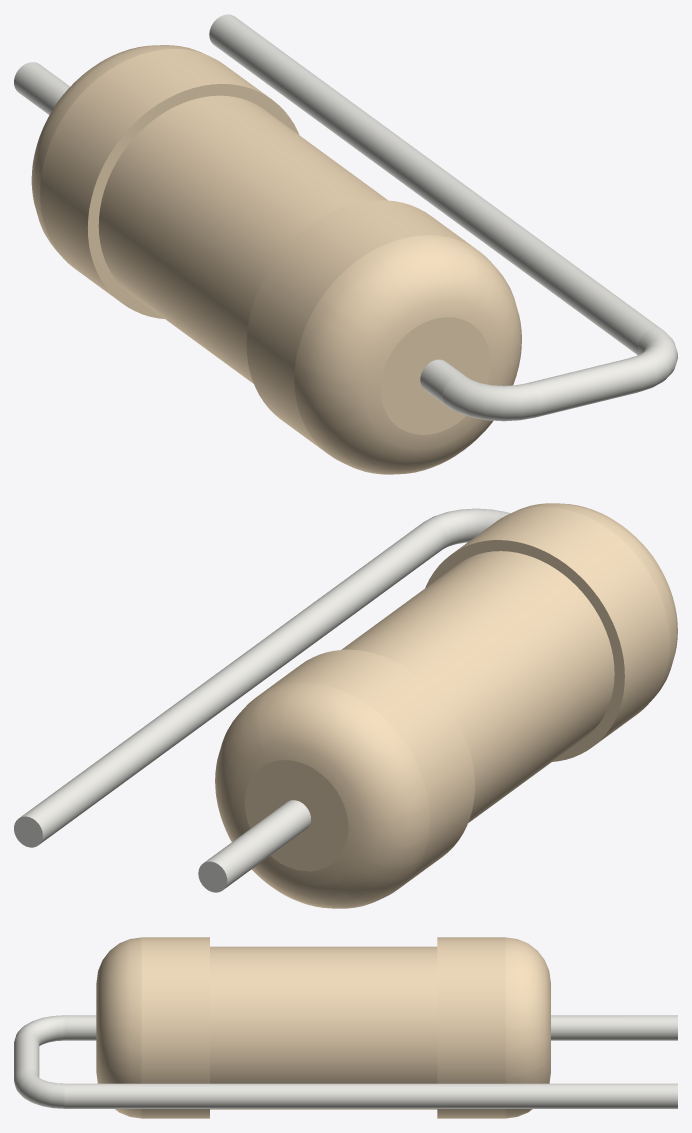
The model's file is R_Axial_DIN0614_L14.3mm_D5.7mm_P5.08mm_Vertical.glb.
The picture shows the model from 3 angles, top to bottom: view 1: azimuth 30°, elevation 25°; view 2: azimuth 150°, elevation 25°; view 3: azimuth 270°, elevation 25°; orthographic projection. The views are drawn at different scales.
Parts seen in each view (by area): view 1: Shape_IndexedFaceSet.004, Shape_IndexedFaceSet.009, Shape_IndexedFaceSet.015, Shape_IndexedFaceSet.008, Shape_IndexedFaceSet, Shape_IndexedFaceSet.010, Shape_IndexedFaceSet.002, Shape_IndexedFaceSet.013, Shape_IndexedFaceSet.012, Shape_IndexedFaceSet.001, Shape_IndexedFaceSet.014, Shape_IndexedFaceSet.005 (+1 smaller); view 2: Shape_IndexedFaceSet.004, Shape_IndexedFaceSet.001, Shape_IndexedFaceSet.015, Shape_IndexedFaceSet.008, Shape_IndexedFaceSet, Shape_IndexedFaceSet.003, Shape_IndexedFaceSet.006, Shape_IndexedFaceSet.005, Shape_IndexedFaceSet.009, Shape_IndexedFaceSet.014, Shape_IndexedFaceSet.007, Shape_IndexedFaceSet.016; view 3: Shape_IndexedFaceSet.004, Shape_IndexedFaceSet.015, Shape_IndexedFaceSet, Shape_IndexedFaceSet.008, Shape_IndexedFaceSet.001, Shape_IndexedFaceSet.009, Shape_IndexedFaceSet.005, Shape_IndexedFaceSet.014, Shape_IndexedFaceSet.013, Shape_IndexedFaceSet.012, Shape_IndexedFaceSet.011.
Boxes of the visible parts, x1,y1,x2,y2 form: Shape_IndexedFaceSet.004: [98, 95, 387, 383]; Shape_IndexedFaceSet.009: [294, 235, 521, 474]; Shape_IndexedFaceSet.015: [209, 14, 661, 354]; Shape_IndexedFaceSet.008: [246, 200, 475, 452]; Shape_IndexedFaceSet: [40, 49, 270, 300]; Shape_IndexedFaceSet.010: [381, 317, 490, 434]; Shape_IndexedFaceSet.002: [88, 84, 299, 318]; Shape_IndexedFaceSet.013: [527, 358, 642, 417]; Shape_IndexedFaceSet.012: [442, 375, 539, 421]; Shape_IndexedFaceSet.001: [31, 45, 208, 255]; Shape_IndexedFaceSet.014: [629, 328, 677, 391]; Shape_IndexedFaceSet.005: [14, 62, 69, 114]; Shape_IndexedFaceSet.004: [341, 551, 614, 822]; Shape_IndexedFaceSet.001: [215, 682, 429, 908]; Shape_IndexedFaceSet.015: [20, 520, 447, 844]; Shape_IndexedFaceSet.008: [455, 507, 669, 744]; Shape_IndexedFaceSet: [260, 649, 474, 887]; Shape_IndexedFaceSet.003: [245, 760, 348, 871]; Shape_IndexedFaceSet.006: [425, 540, 624, 761]; Shape_IndexedFaceSet.005: [203, 800, 310, 888]; Shape_IndexedFaceSet.009: [512, 503, 677, 701]; Shape_IndexedFaceSet.014: [424, 508, 504, 548]; Shape_IndexedFaceSet.007: [198, 861, 227, 892]; Shape_IndexedFaceSet.016: [14, 816, 42, 847]; Shape_IndexedFaceSet.004: [210, 946, 437, 1109]; Shape_IndexedFaceSet.015: [64, 1083, 677, 1108]; Shape_IndexedFaceSet: [437, 937, 505, 1118]; Shape_IndexedFaceSet.008: [141, 937, 209, 1118]; Shape_IndexedFaceSet.001: [505, 937, 550, 1118]; Shape_IndexedFaceSet.009: [96, 937, 141, 1118]; Shape_IndexedFaceSet.005: [551, 1015, 677, 1040]; Shape_IndexedFaceSet.014: [14, 1068, 64, 1108]; Shape_IndexedFaceSet.013: [14, 1032, 39, 1077]; Shape_IndexedFaceSet.012: [15, 1015, 64, 1045]; Shape_IndexedFaceSet.011: [64, 1015, 96, 1040].
Bounding box in the file's own units: 3.28 × 2.24 × 8.23.
